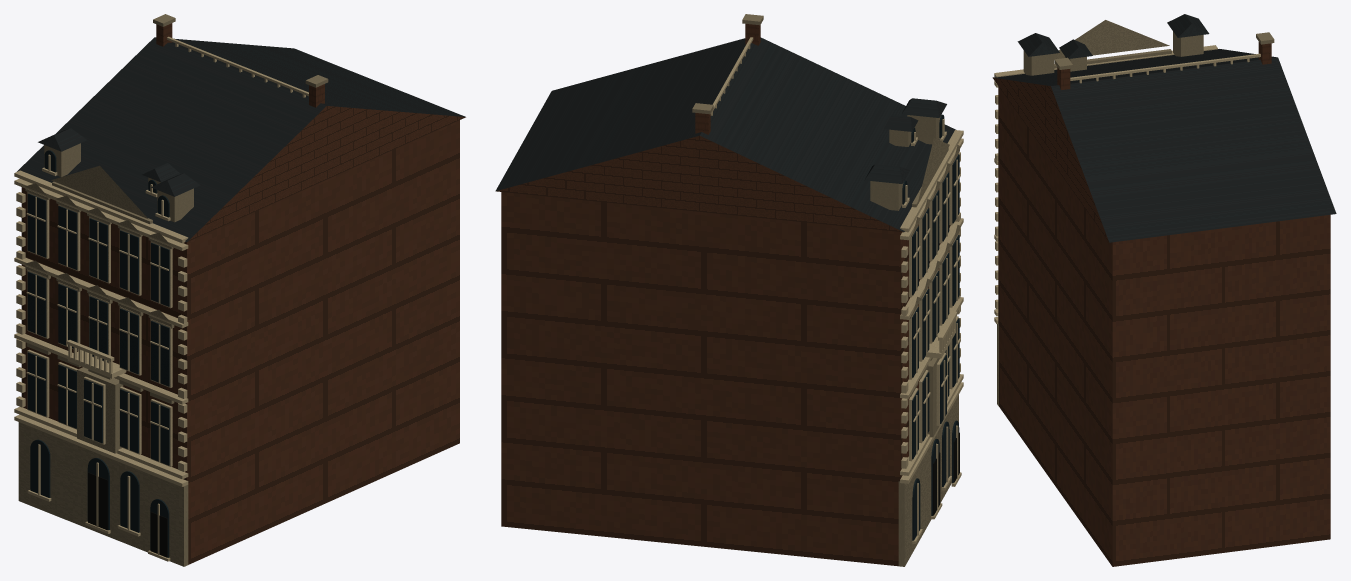
3 views of the same model, side by side, from view 1: azimuth 30°, elevation 25°; view 2: azimuth 150°, elevation 25°; view 3: azimuth 270°, elevation 25° (orthographic). The views are drawn at different scales.
Parts seen in each view (by area): view 1: van-dooren-0, van-dooren-1, van-dooren-3, van-dooren-4, van-dooren-2, van-dooren-5; view 2: van-dooren-0, van-dooren-1, van-dooren-3, van-dooren-2, van-dooren-4, van-dooren-5; view 3: van-dooren-0, van-dooren-1, van-dooren-2, van-dooren-3.
Part boxes in pixels (x1,y1,x2,y2): van-dooren-0: [21, 23, 465, 564]; van-dooren-1: [17, 37, 465, 241]; van-dooren-3: [14, 36, 308, 561]; van-dooren-4: [27, 150, 169, 557]; van-dooren-2: [18, 14, 328, 566]; van-dooren-5: [88, 472, 167, 557]; van-dooren-0: [496, 24, 950, 566]; van-dooren-1: [495, 37, 955, 231]; van-dooren-3: [710, 37, 963, 543]; van-dooren-2: [692, 14, 961, 566]; van-dooren-4: [902, 114, 959, 540]; van-dooren-5: [933, 432, 959, 515]; van-dooren-0: [993, 42, 1330, 566]; van-dooren-1: [993, 14, 1336, 242]; van-dooren-2: [997, 20, 1274, 406]; van-dooren-3: [994, 45, 1260, 323].
Size of the model in its own units: 24.32 by 24.6 by 18.14.
6 materials, 6 textured.
